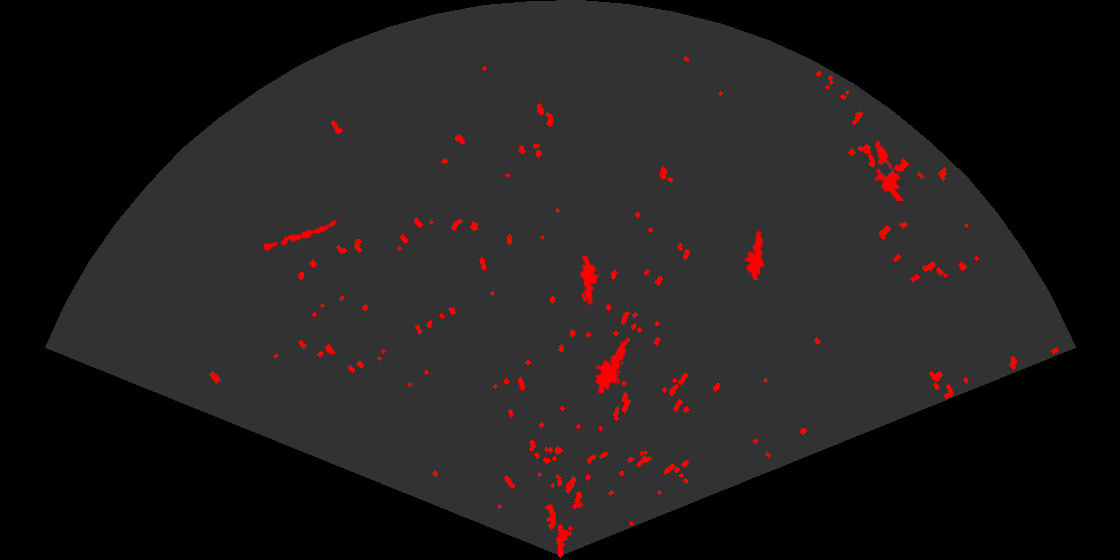chain: (259, 218, 340, 253)
frogman: (873, 139, 906, 201), (593, 338, 628, 393), (742, 229, 766, 280), (578, 256, 601, 306)
